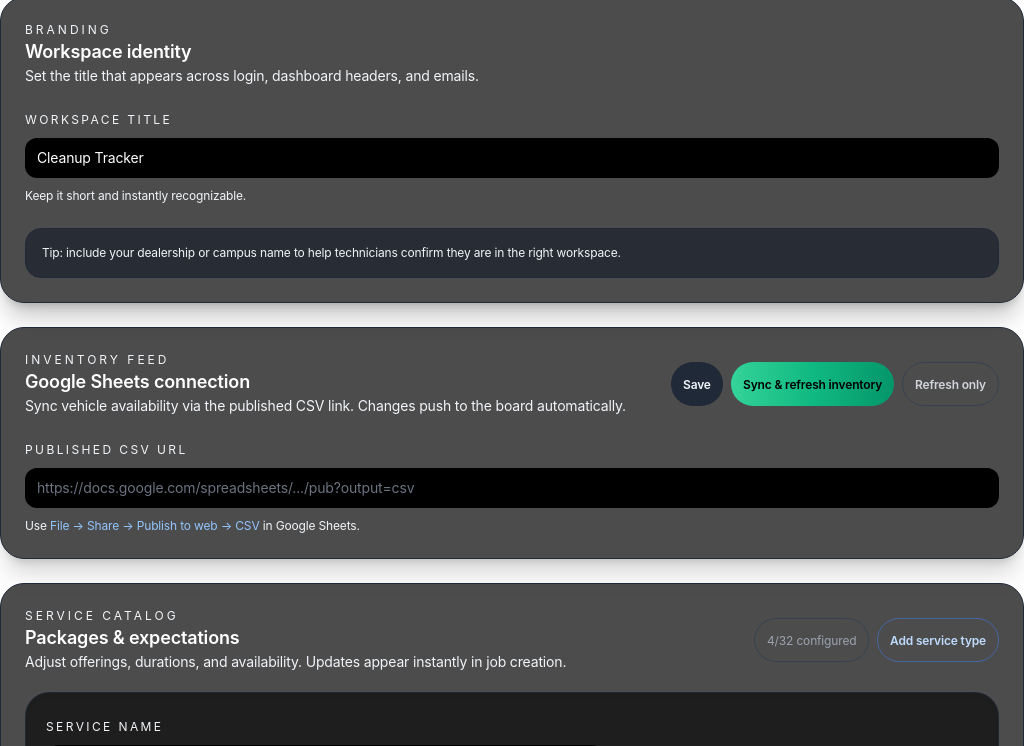
SettingsView › refreshes inventory without saving when clicking Refresh Inventory
(page scrolled)
What coordinates should you click on to do the following:
click the button "Refresh only"
I would click on:
 (950, 384)
Its box is left=902, top=362, right=999, bottom=406.
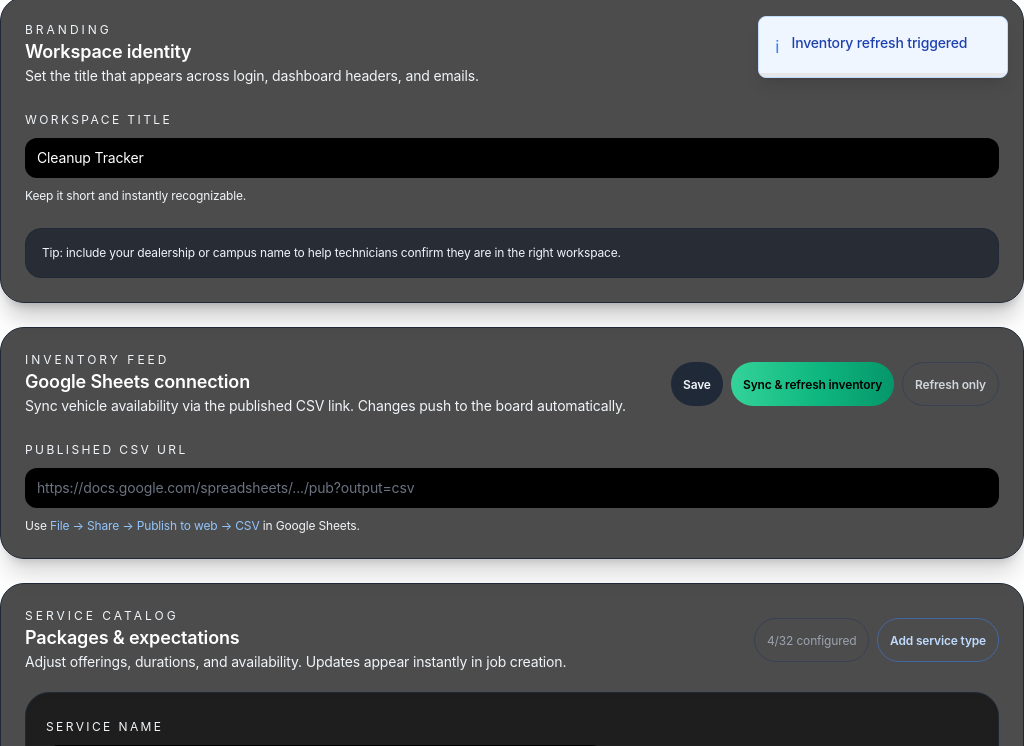
Expected: the text "Inventory refresh triggered" is shown, left=791, top=33, right=967, bottom=53
